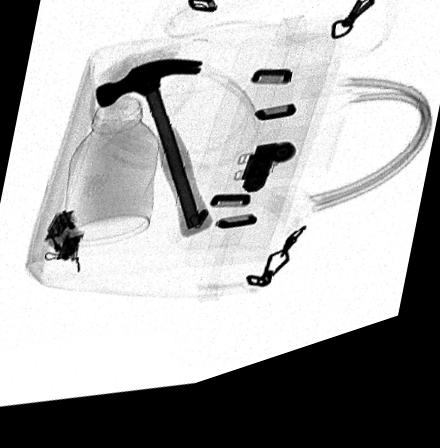Hammer: (94, 69, 213, 250)
